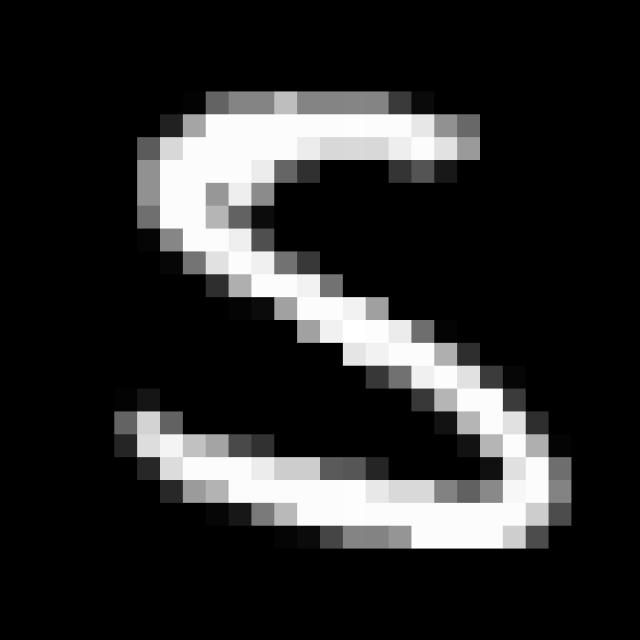five -5-: (123, 91, 579, 566)
